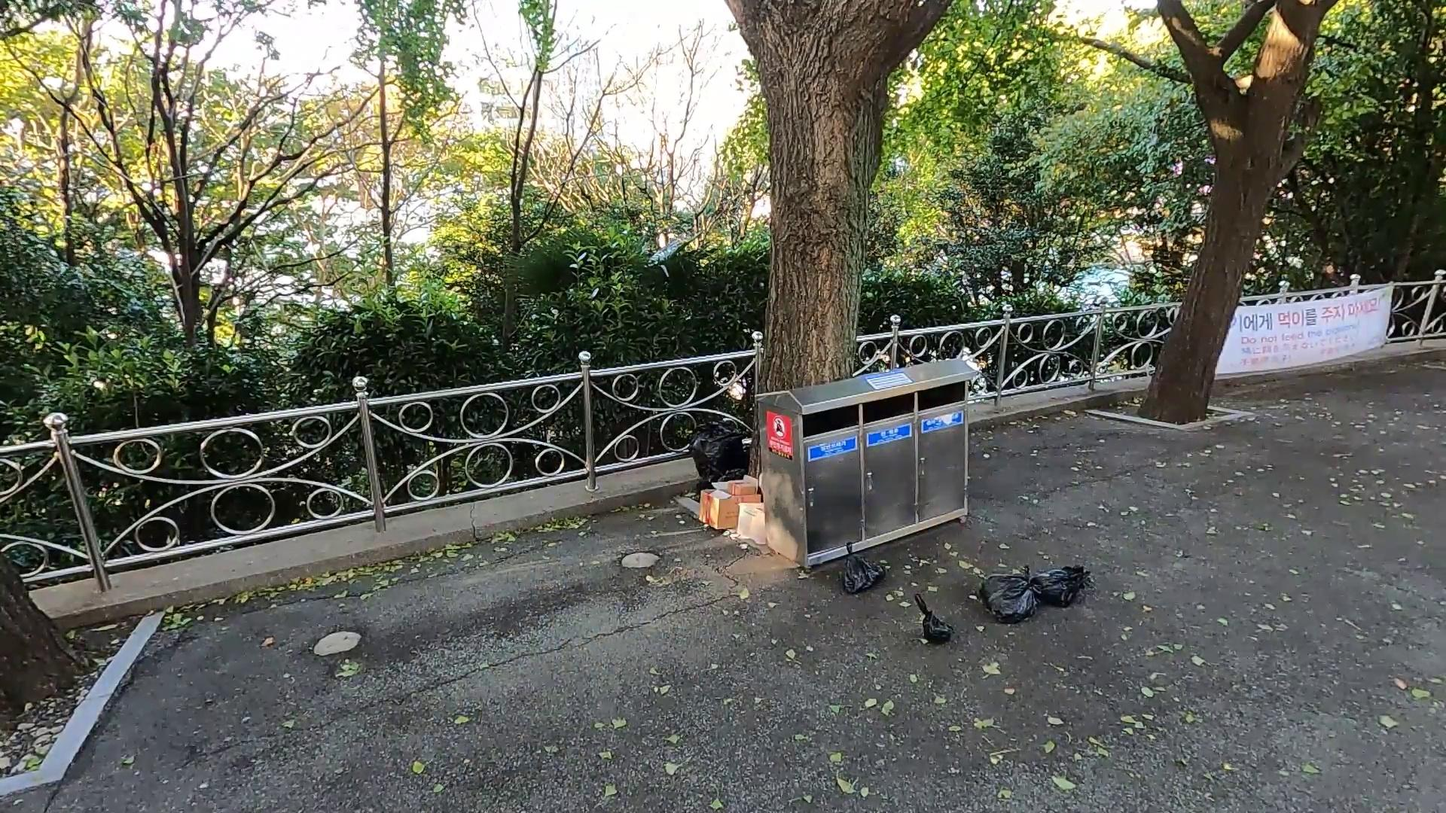trash: (978, 563, 1040, 624), (689, 420, 754, 475), (1031, 565, 1095, 610), (698, 487, 763, 531), (838, 540, 890, 594), (913, 592, 956, 646), (738, 501, 767, 546), (709, 472, 760, 495)
